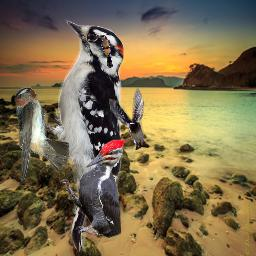Cuckoo: (97, 35, 113, 68)
Swallow: (14, 87, 69, 186), (109, 88, 151, 150)
Woodpecker: (17, 18, 127, 252), (60, 139, 125, 238)
